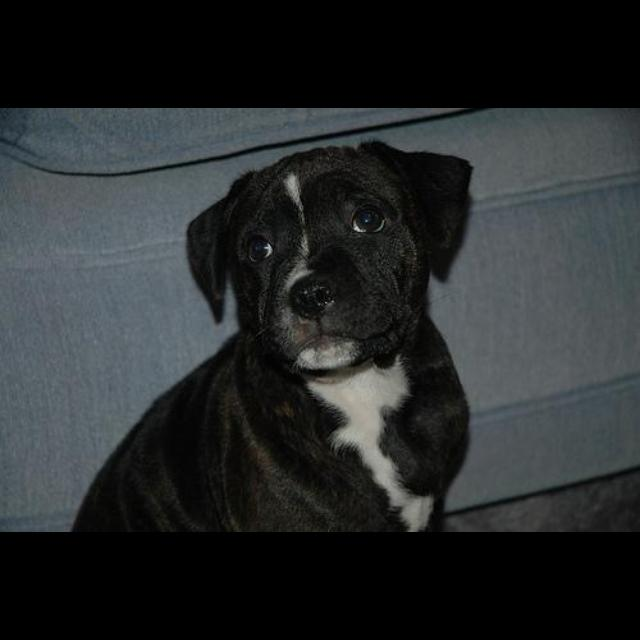staffford: (70, 139, 475, 533)
